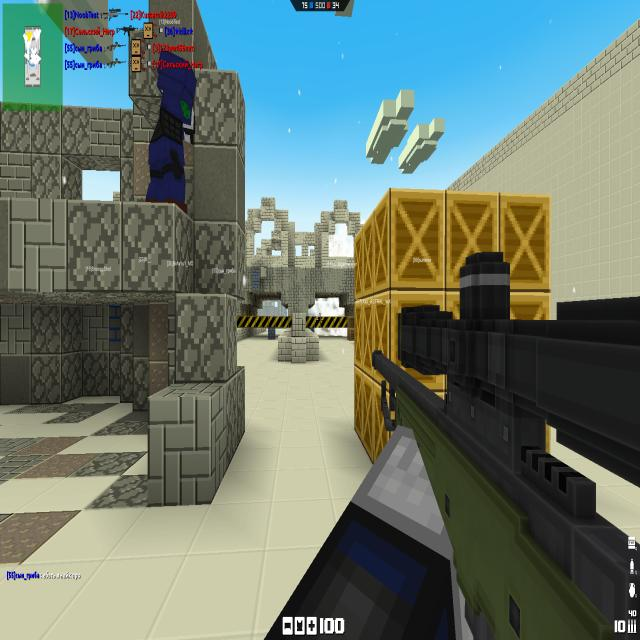player: (145, 57, 198, 215)
